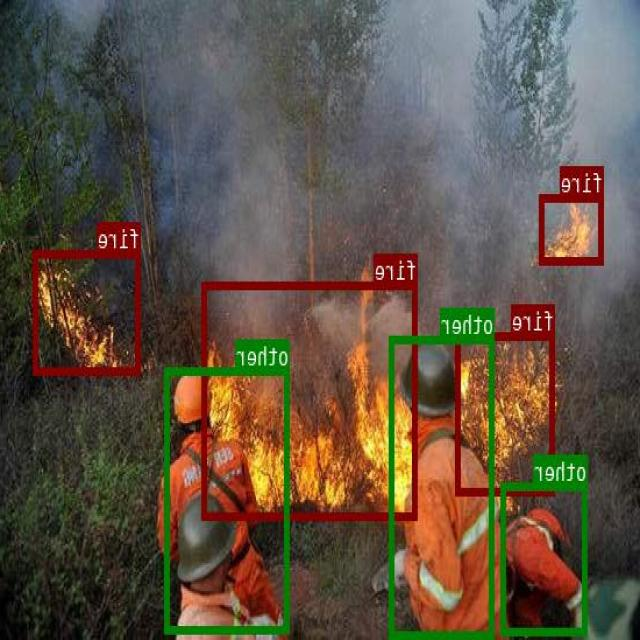fire: (203, 281, 418, 519), (456, 330, 556, 494), (35, 250, 142, 374), (540, 194, 604, 263)
other: (166, 366, 290, 632), (391, 336, 495, 636), (502, 482, 588, 634)
